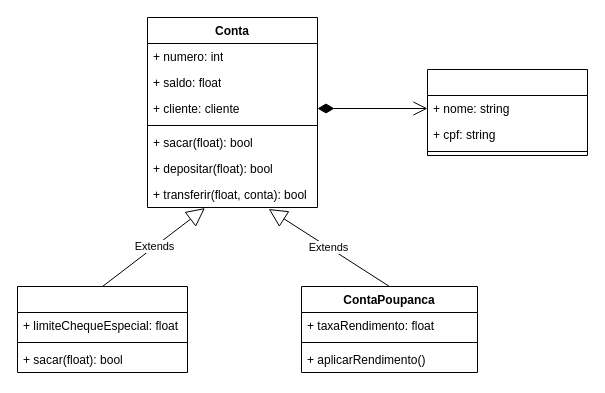
Image size: 605x393. Some labels were removed from this diagram. Here are the shapes that lost their labels. From the top down, the box of each, then its label:
(426, 68, 588, 156): Cliente
(16, 286, 188, 372): ContaCorrente
